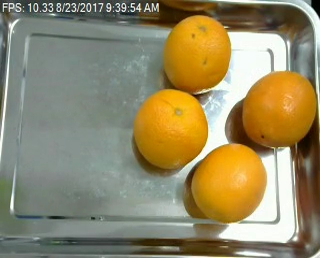Orange: (191, 142, 267, 222), (133, 89, 208, 170), (242, 70, 318, 148), (163, 13, 231, 92)
